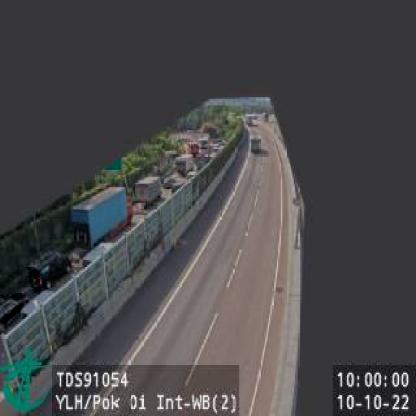Car: (29, 249, 73, 292)
Truck: (72, 186, 130, 255), (135, 177, 163, 207)
